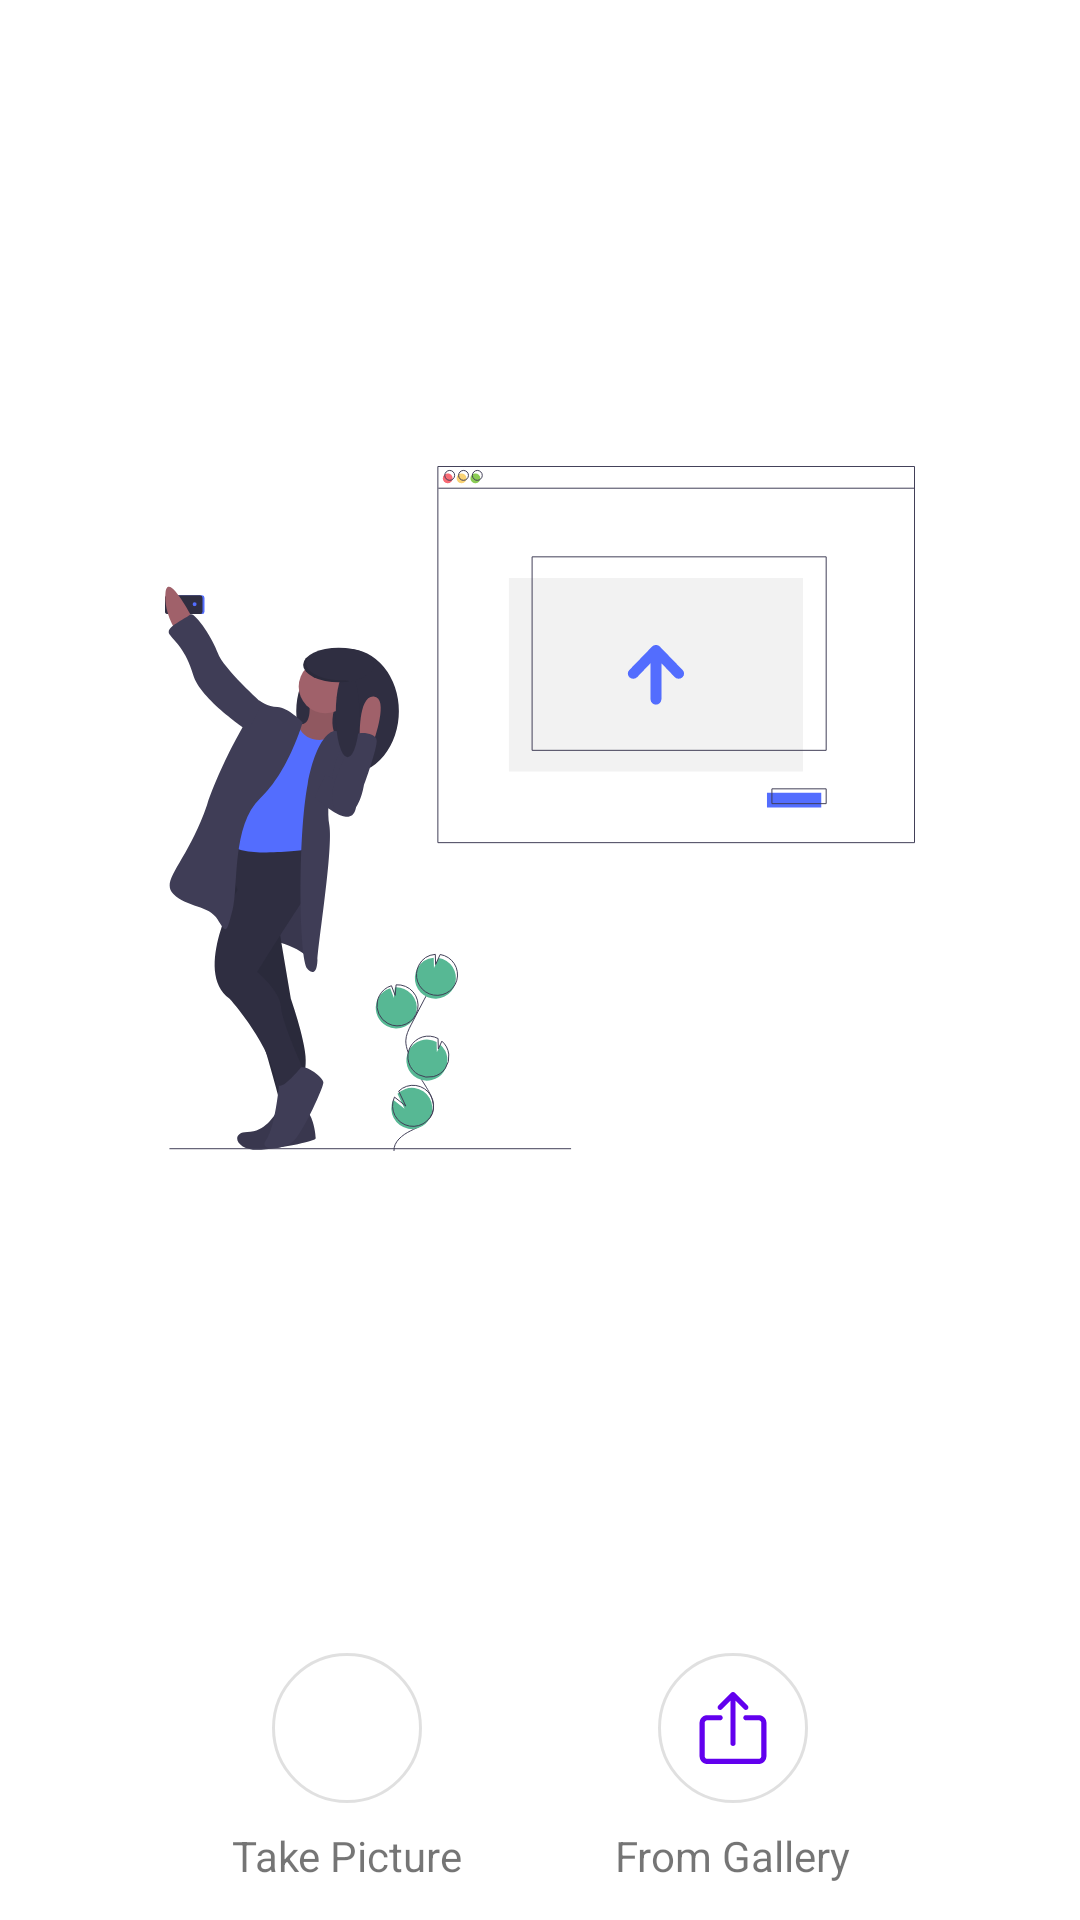

Icons on this 1080px x 1920px Android screen, each with the point to tap as [x,y]:
upload: [733,1728]
